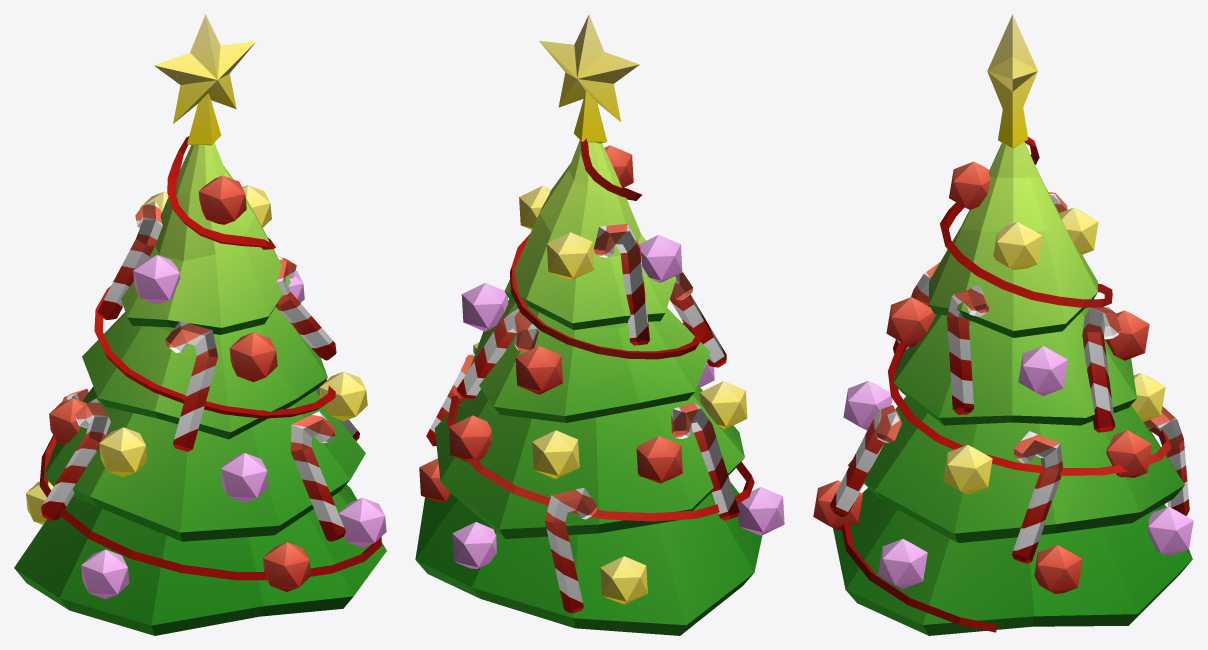
Rendered from tree.obj.
The picture shows the model from 3 angles, left to right: view 1: azimuth 30°, elevation 25°; view 2: azimuth 150°, elevation 25°; view 3: azimuth 270°, elevation 25°; orthographic projection. The views are drawn at different scales.
Parts seen in each view (by area): view 1: Christmas_Tree, Christmas_Tree_Candy002, Christmas_Tree_Candy, Christmas_Tree_Candy003, Christmas_Tree_Candy004, Christmas_Tree_Candy001, Christmas_Tree_047, Christmas_Tree_050, Christmas_Tree_Ball_002, Christmas_Tree_048, Christmas_Tree_12, Christmas_Tree_054 (+6 smaller); view 2: Christmas_Tree, Christmas_Tree_Candy007, Christmas_Tree_Candy004, Christmas_Tree_Candy003, Christmas_Tree_Candy005, Christmas_Tree_Ball_005, Christmas_Tree_051, Christmas_Tree_Ball_004, Christmas_Tree_Ball_003, Christmas_Tree_Candy002, Christmas_Tree_057, Christmas_Tree_050 (+9 smaller); view 3: Christmas_Tree, Christmas_Tree_Candy006, Christmas_Tree_Candy005, Christmas_Tree_Candy001, Christmas_Tree_Candy, Christmas_Tree_049, Christmas_Tree_Ball_01, Christmas_Tree_053, Christmas_Tree_056, Christmas_Tree_Ball_006, Christmas_Tree_055, Christmas_Tree_047 (+9 smaller).
Boxes of the visible parts, bbox=[...] form: Christmas_Tree: bbox=[14, 14, 386, 635]; Christmas_Tree_Candy002: bbox=[165, 321, 217, 451]; Christmas_Tree_Candy: bbox=[290, 411, 345, 541]; Christmas_Tree_Candy003: bbox=[41, 398, 110, 520]; Christmas_Tree_Candy004: bbox=[97, 201, 162, 319]; Christmas_Tree_Candy001: bbox=[275, 255, 336, 360]; Christmas_Tree_047: bbox=[229, 332, 277, 381]; Christmas_Tree_050: bbox=[81, 549, 129, 599]; Christmas_Tree_Ball_002: bbox=[99, 427, 147, 476]; Christmas_Tree_048: bbox=[220, 453, 268, 502]; Christmas_Tree_12: bbox=[263, 542, 310, 591]; Christmas_Tree_054: bbox=[198, 175, 246, 224]; Christmas_Tree: bbox=[415, 14, 762, 635]; Christmas_Tree_Candy007: bbox=[544, 487, 597, 612]; Christmas_Tree_Candy004: bbox=[594, 223, 649, 345]; Christmas_Tree_Candy003: bbox=[671, 402, 739, 520]; Christmas_Tree_Candy005: bbox=[456, 308, 538, 399]; Christmas_Tree_Ball_005: bbox=[532, 430, 579, 478]; Christmas_Tree_051: bbox=[515, 345, 562, 394]; Christmas_Tree_Ball_004: bbox=[600, 556, 647, 604]; Christmas_Tree_Ball_003: bbox=[546, 232, 594, 280]; Christmas_Tree_Candy002: bbox=[670, 272, 726, 367]; Christmas_Tree_057: bbox=[636, 436, 682, 483]; Christmas_Tree_050: bbox=[737, 487, 784, 535]; Christmas_Tree: bbox=[833, 14, 1192, 635]; Christmas_Tree_Candy006: bbox=[1012, 431, 1062, 563]; Christmas_Tree_Candy005: bbox=[1082, 307, 1121, 432]; Christmas_Tree_Candy001: bbox=[947, 285, 988, 414]; Christmas_Tree_Candy: bbox=[829, 405, 901, 517]; Christmas_Tree_049: bbox=[878, 539, 927, 588]; Christmas_Tree_Ball_01: bbox=[943, 444, 992, 494]; Christmas_Tree_053: bbox=[1018, 346, 1067, 395]; Christmas_Tree_056: bbox=[1034, 545, 1082, 593]; Christmas_Tree_Ball_006: bbox=[993, 221, 1042, 269]; Christmas_Tree_055: bbox=[1147, 506, 1193, 554]; Christmas_Tree_047: bbox=[886, 297, 935, 347].
Size of the model in its own units: 2098 by 3599 by 2162.
1 material, 1 textured.
